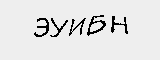Б: (86, 12, 107, 37)
И: (68, 16, 84, 40)
Н: (108, 15, 132, 36)
У: (48, 11, 69, 39)
Э: (32, 15, 50, 41)
